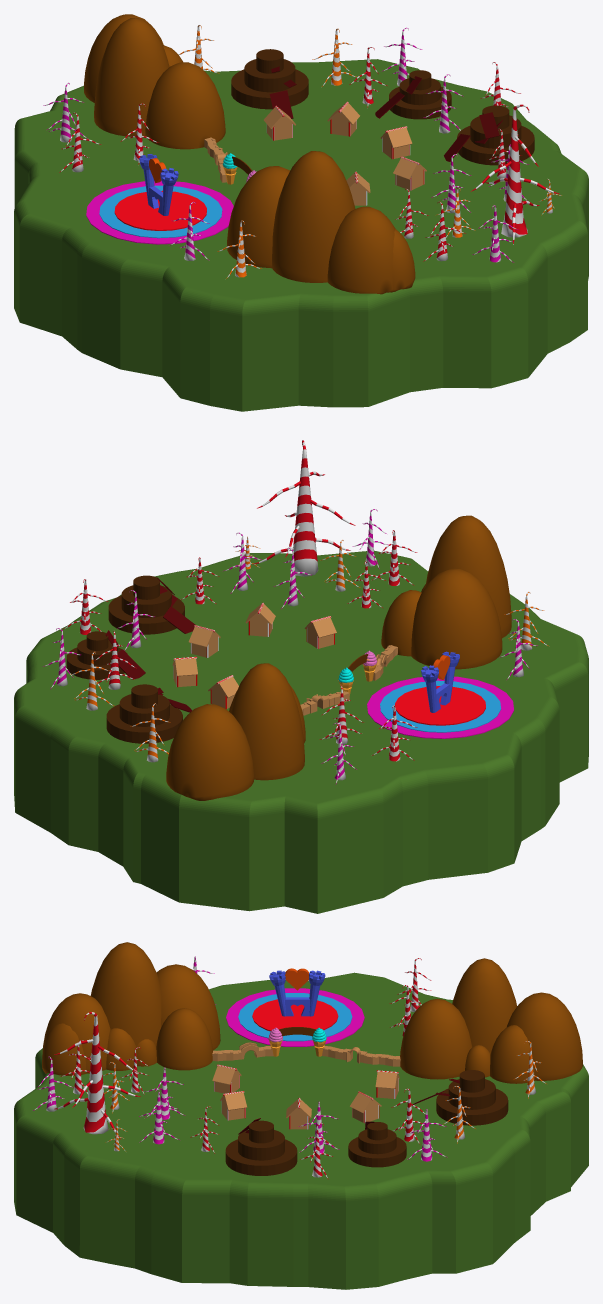
Rendered from Level.fbx.
3 renders of one model, top to bottom at view 1: azimuth 30°, elevation 25°; view 2: azimuth 150°, elevation 25°; view 3: azimuth 270°, elevation 25°, orthographic. The views are drawn at different scales.
Visible parts, largest first — view 1: Welt, Eis_Braun.008, Eis_Braun.001, Eis_Braun, Eis_Braun.009, Eis_Braun.011, Cylinder.003, Cylinder.005, Cylinder.002, Cylinder.006, Candy_Tree.006, Cylinder.007 (+18 smaller); view 2: Welt, Eis_Braun.011, Eis_Braun.003, Eis_Braun.001, Eis_Braun.008, Cylinder.003, Cylinder.002, Candy_Tree.006, Cylinder.005, Cylinder.006, Cylinder.007, Eis_Braun.006 (+7 smaller); view 3: Welt, Eis_Braun.008, Eis_Braun, Eis_Braun.003, Eis_Braun.001, Cylinder.002, Eis_Braun.006, Cylinder.003, Eis_Braun.011, Eis_Braun.009, Candy_Tree.006, Cylinder.001 (+21 smaller).
Boxes of the visible parts, x1,y1,x2,y2 form: Welt: (14,59,588,411); Eis_Braun.008: (272,151,355,282); Eis_Braun.001: (94,18,169,136); Eis_Braun: (145,62,225,149); Eis_Braun.009: (327,206,395,294); Eis_Braun.011: (227,166,290,268); Cylinder.003: (231,49,308,109); Cylinder.005: (114,190,206,230); Cylinder.002: (457,105,534,165); Cylinder.006: (86,181,233,244); Candy_Tree.006: (471,104,559,244); Cylinder.007: (99,185,222,238); Welt: (14,550,588,913); Eis_Braun.011: (411,568,502,669); Eis_Braun.003: (166,704,253,800); Eis_Braun.001: (230,663,304,780); Eis_Braun.008: (425,515,511,638); Cylinder.003: (106,684,182,743); Cylinder.002: (108,575,184,634); Candy_Tree.006: (253,440,355,576); Cylinder.005: (395,686,485,725); Cylinder.006: (367,676,513,738); Cylinder.007: (380,680,501,732); Eis_Braun.006: (381,590,421,656); Welt: (14,972,588,1289); Eis_Braun.008: (90,942,161,1046); Eis_Braun: (400,998,472,1079); Eis_Braun.003: (506,992,582,1080); Eis_Braun.001: (452,958,517,1053); Cylinder.002: (225,1120,297,1175); Eis_Braun.006: (156,1008,212,1070); Cylinder.003: (436,1070,508,1125); Eis_Braun.011: (156,964,220,1050); Eis_Braun.009: (42,993,110,1073); Candy_Tree.006: (53,1012,140,1139); Cylinder.001: (348,1122,406,1167).
Size of the model in its own units: 18809 by 8658 by 20674.
